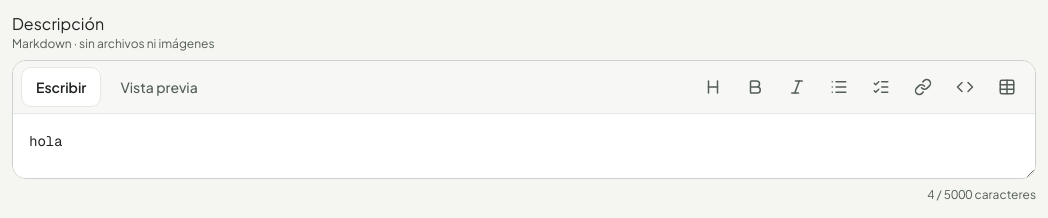
MarkdownEditor › applies toolbar formatting to the selection
What coordinates should you click on to do the following:
click the button named "Negrita"
I would click on:
 (755, 87)
Its box is [735,67,775,107].
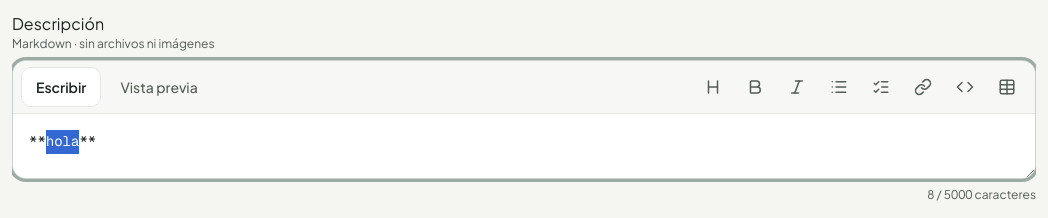
Check: the text box labelled "Descripción" holds "**hola**", box [13,114,1035,178]
